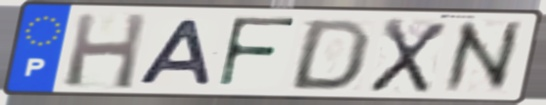A: (132, 18, 215, 88)
D: (284, 17, 375, 92)
F: (214, 15, 301, 91)
H: (61, 11, 150, 92)
N: (441, 19, 524, 96)
X: (365, 16, 451, 95)
